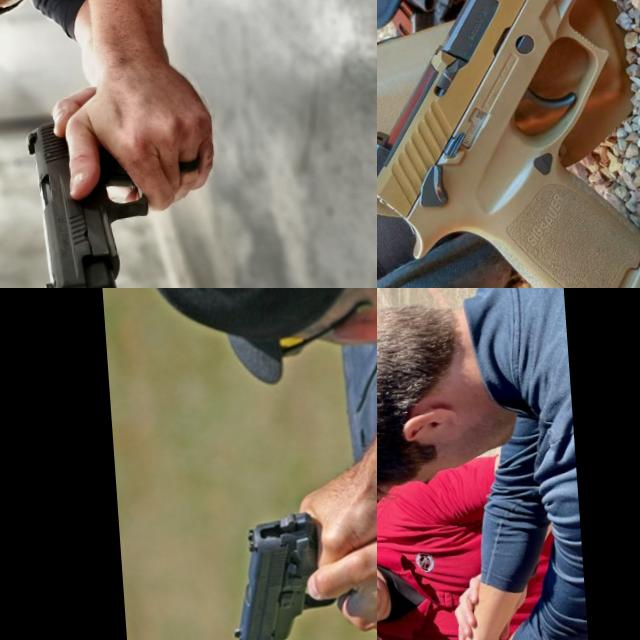handgun: (377, 0, 640, 288), (20, 110, 159, 288), (223, 506, 345, 640)
